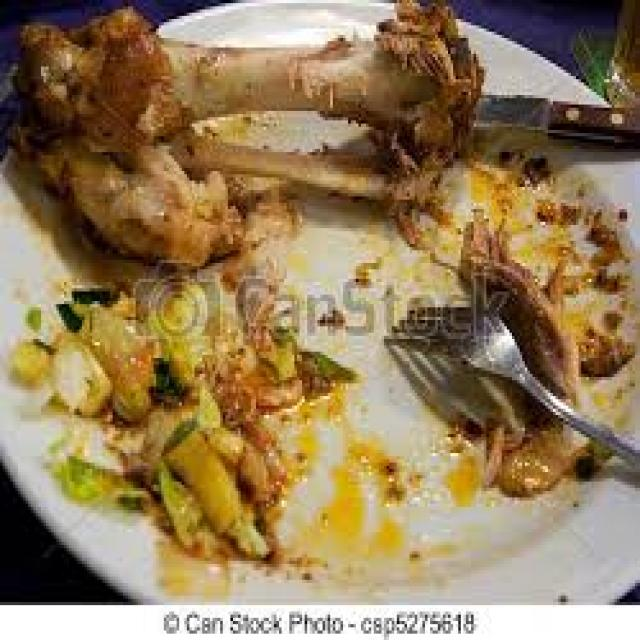organic waste: (13, 0, 479, 165), (161, 124, 466, 238), (10, 121, 248, 266), (456, 219, 586, 380), (56, 279, 166, 409), (197, 324, 282, 441), (156, 421, 243, 529), (486, 393, 576, 497), (248, 327, 343, 402), (56, 444, 159, 510), (44, 323, 112, 418), (230, 418, 292, 510), (141, 380, 223, 447), (156, 336, 220, 421), (230, 247, 292, 333), (586, 203, 632, 288), (571, 320, 632, 374), (10, 336, 49, 396), (225, 510, 261, 558), (20, 304, 41, 333)
